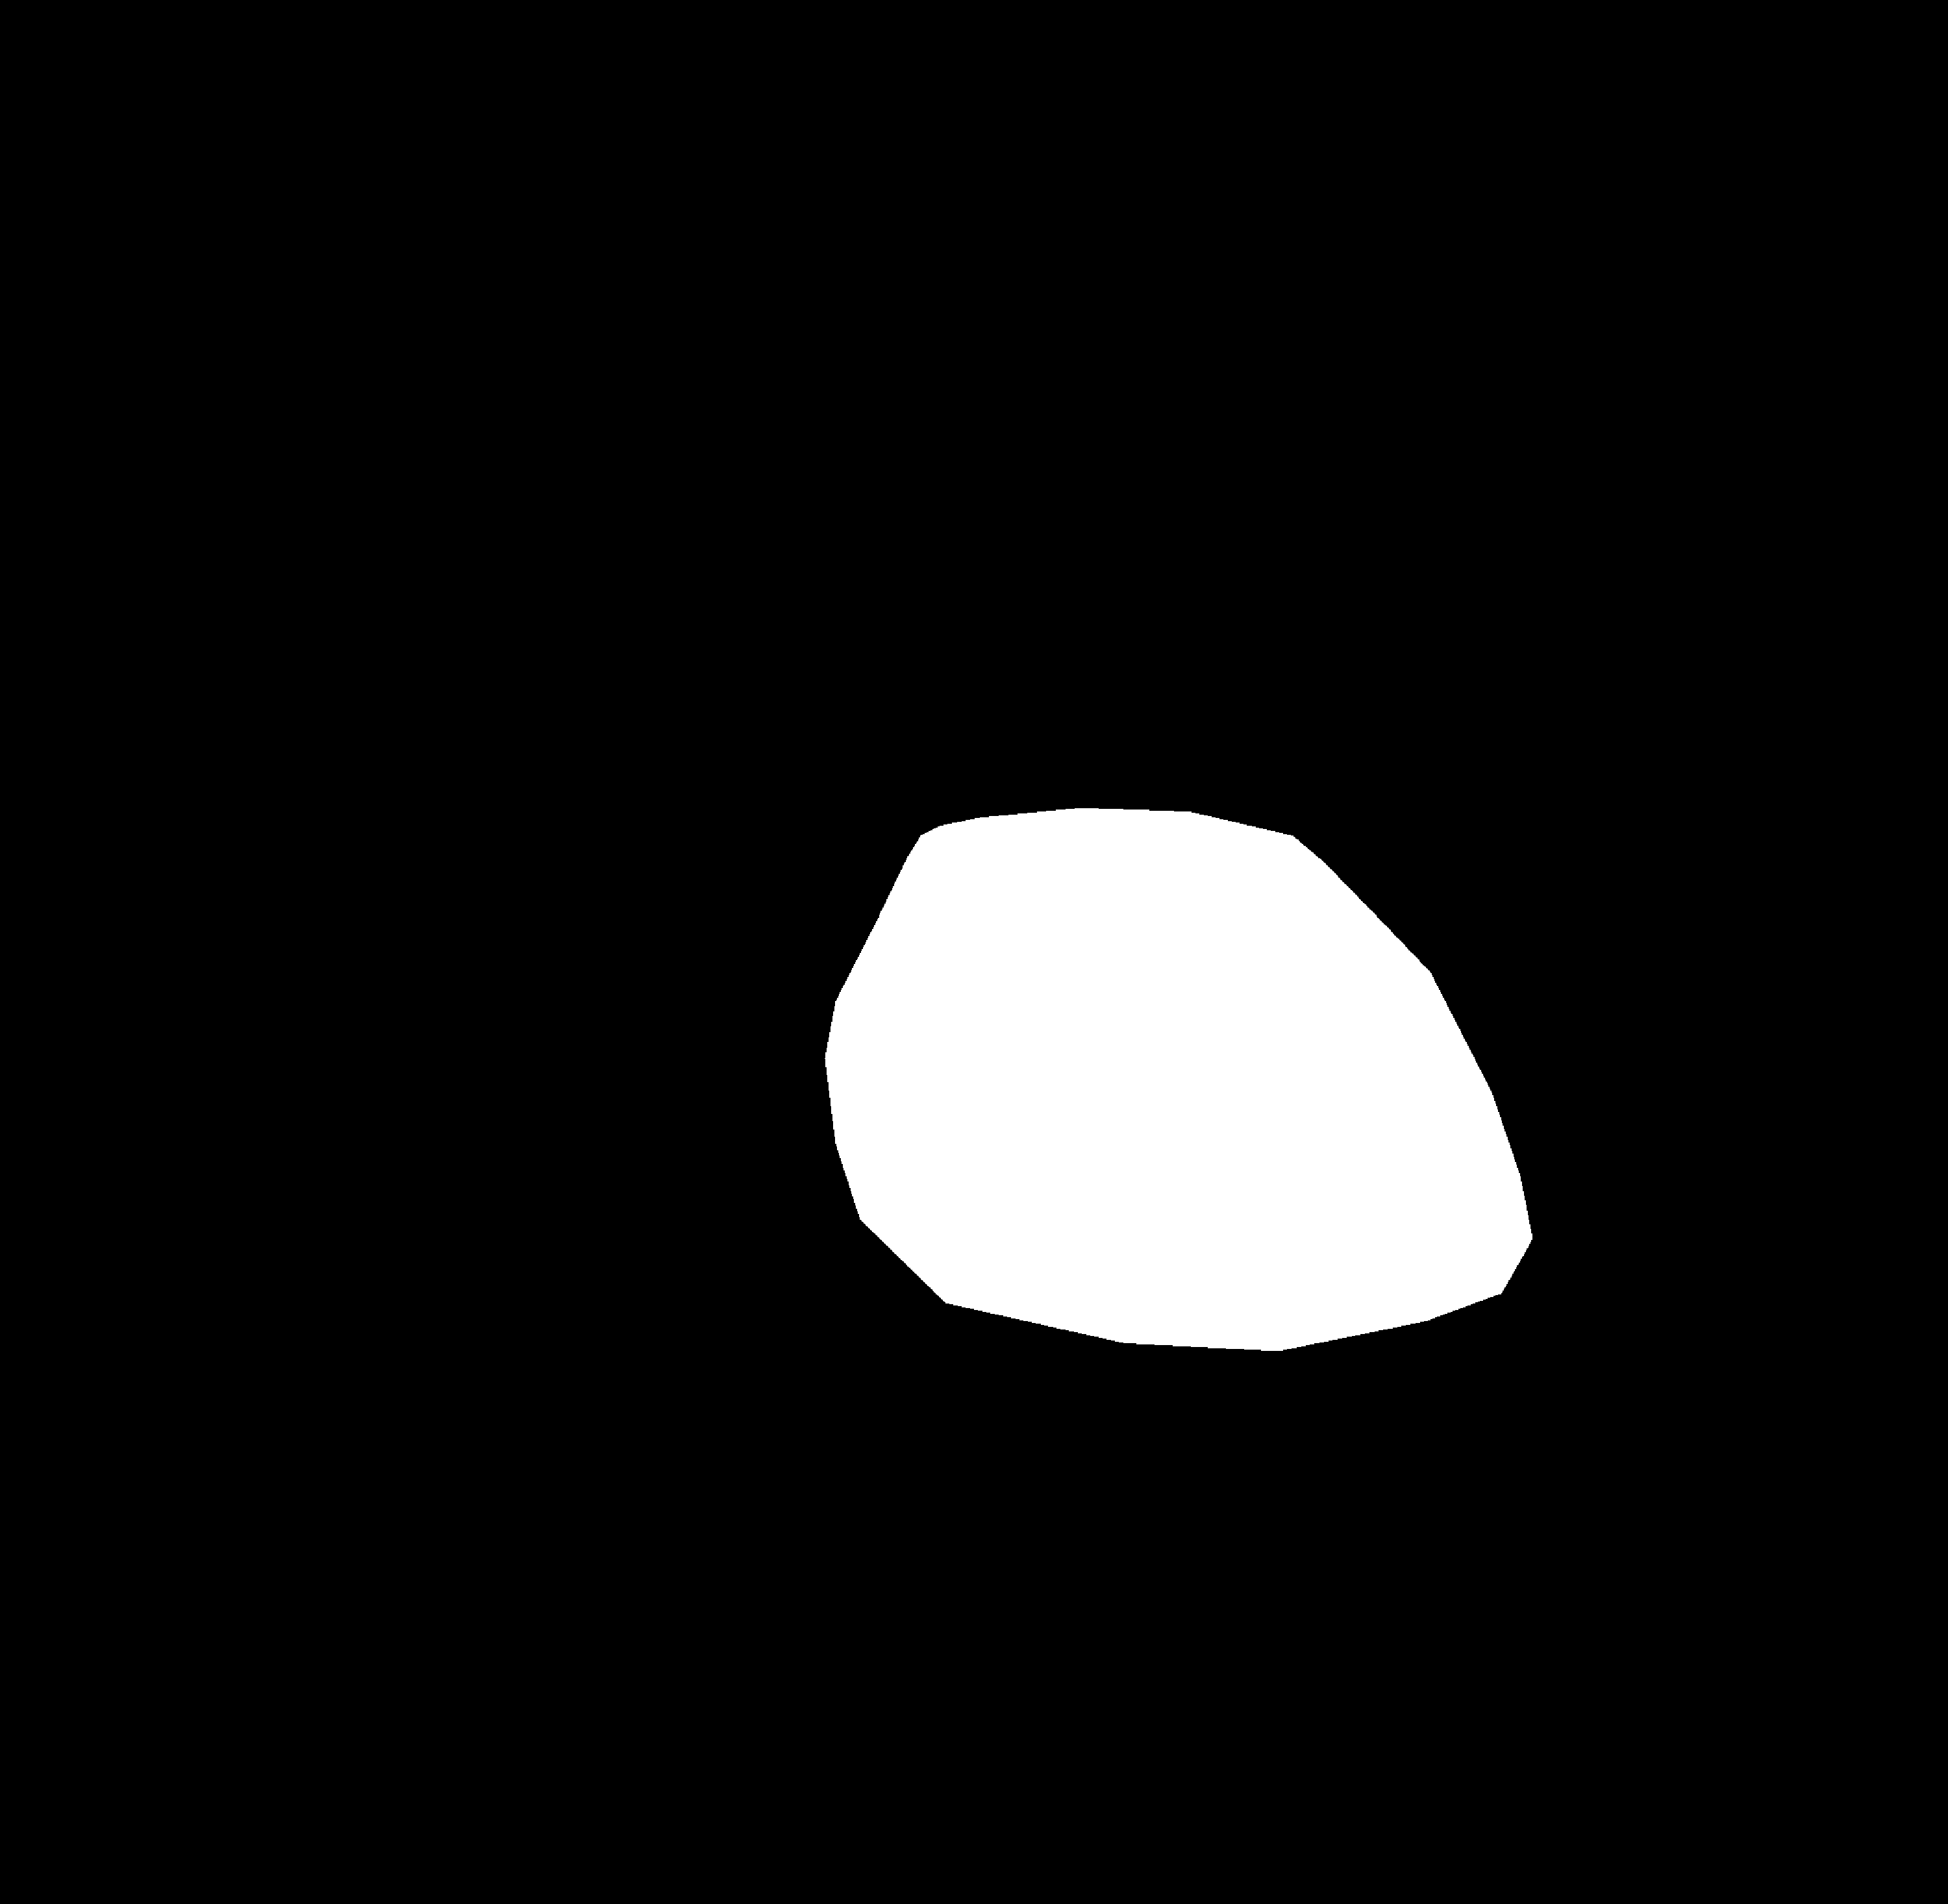heart: (827, 858, 1521, 1315)
left_lung: (267, 194, 987, 1454)
right_lung: (1125, 157, 1796, 1452)
